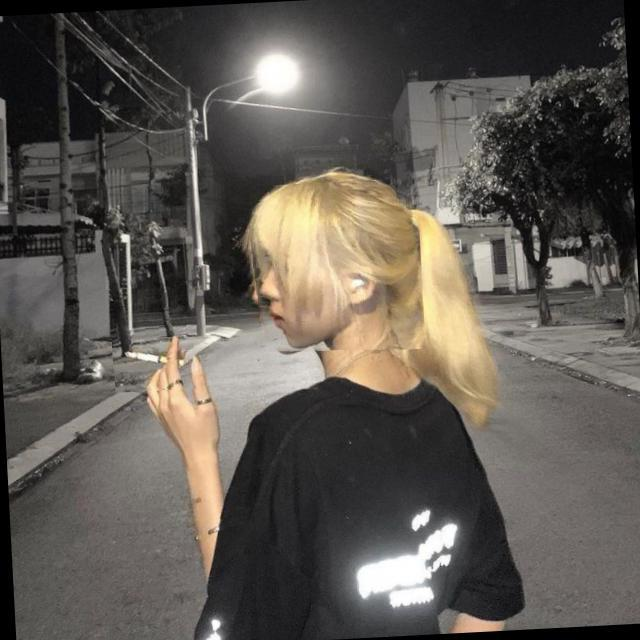cigarette: (110, 322, 196, 393)
